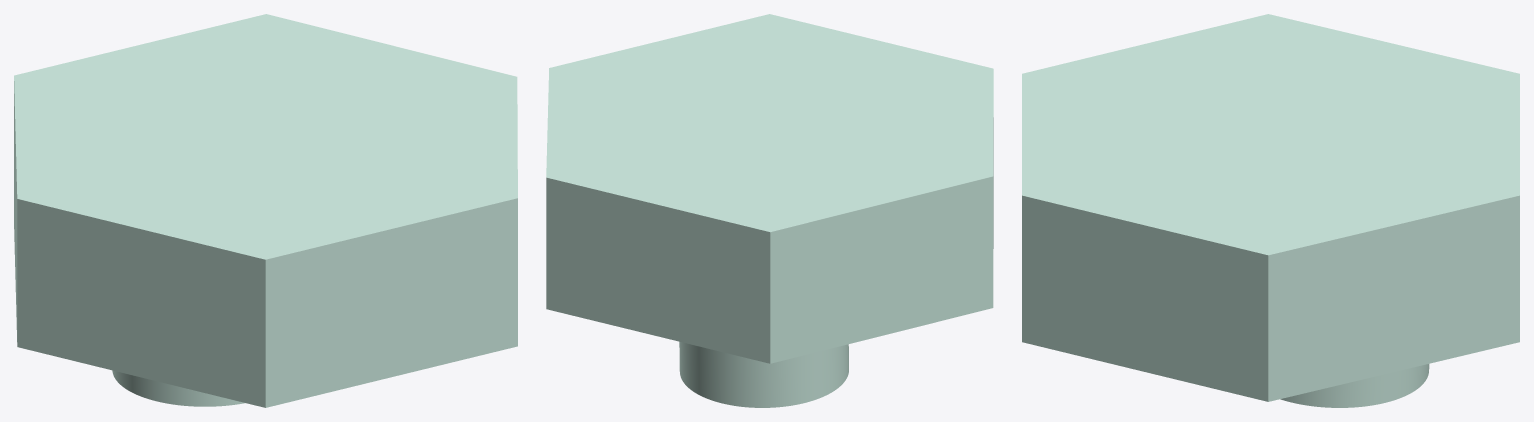
3 renders of one model, left to right at view 1: azimuth 30°, elevation 25°; view 2: azimuth 150°, elevation 25°; view 3: azimuth 270°, elevation 25°, orthographic. The views are drawn at different scales.
Visible parts, largest first — view 1: Renderer Node; view 2: Renderer Node; view 3: Renderer Node.
Part boxes in pixels (x1,y1,x2,y2): Renderer Node: (14,14,517,407); Renderer Node: (546,14,993,407); Renderer Node: (1022,14,1519,407).
Bounding box in the file's own units: 0.3586 × 0.1718 × 0.3125.
